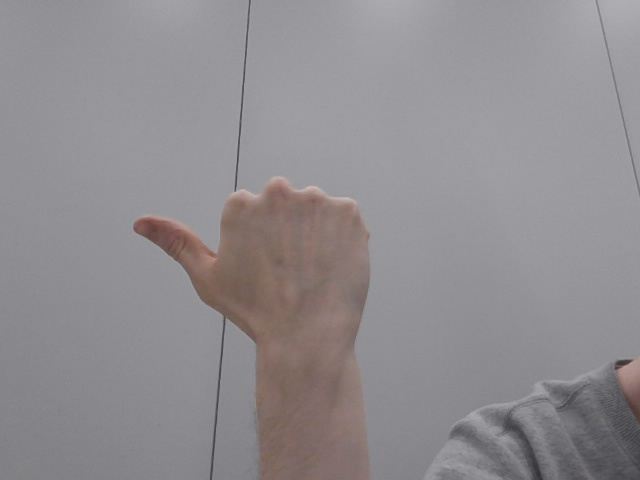right: (108, 168, 438, 380)
